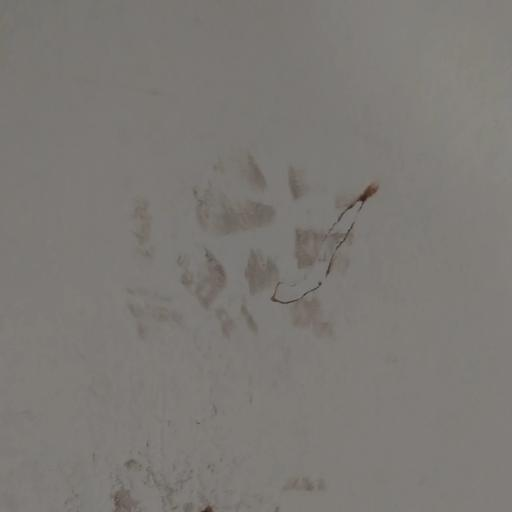stain: (116, 142, 381, 363), (64, 431, 335, 512), (171, 339, 312, 456)
